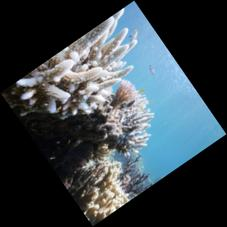bleached_corals: (1, 9, 215, 227)
